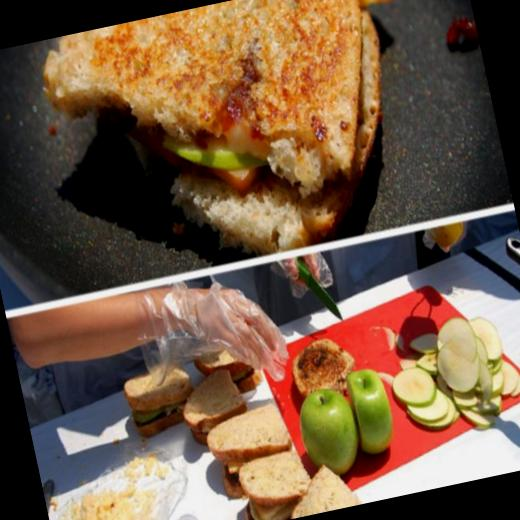Apple: (296, 385, 370, 480), (340, 365, 402, 458)
